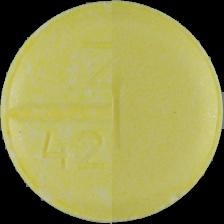69189-4233: (0, 0, 224, 224)
